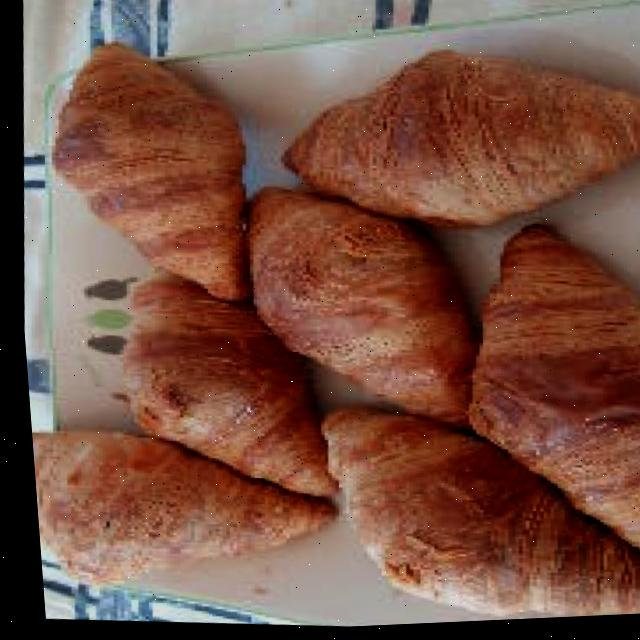面包点心: (1, 3, 640, 640)
